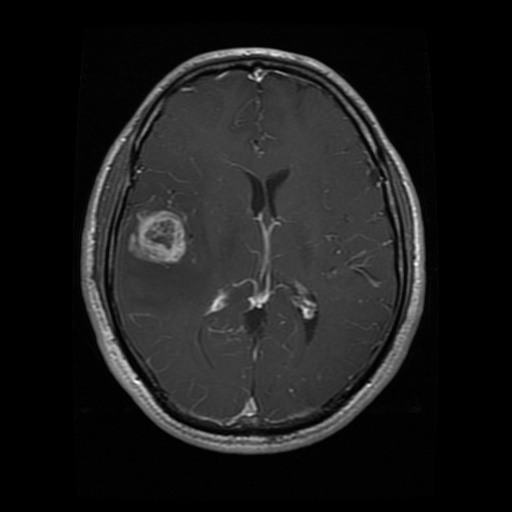glioma: (127, 205, 189, 267)
